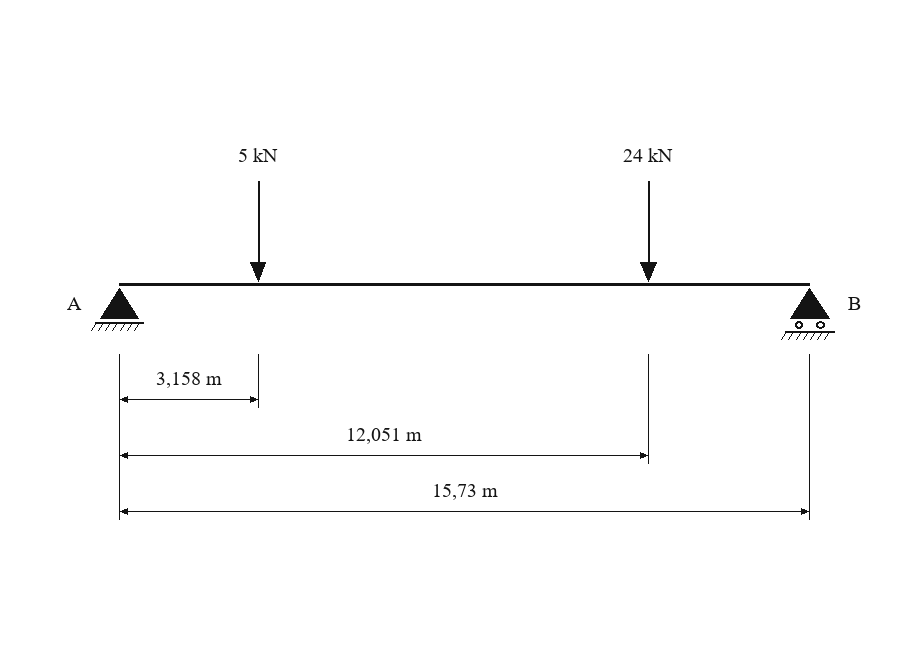pin_support: (91, 288, 144, 331)
point_load: (640, 181, 657, 282), (250, 181, 266, 282)
roller_support: (781, 288, 835, 340)
